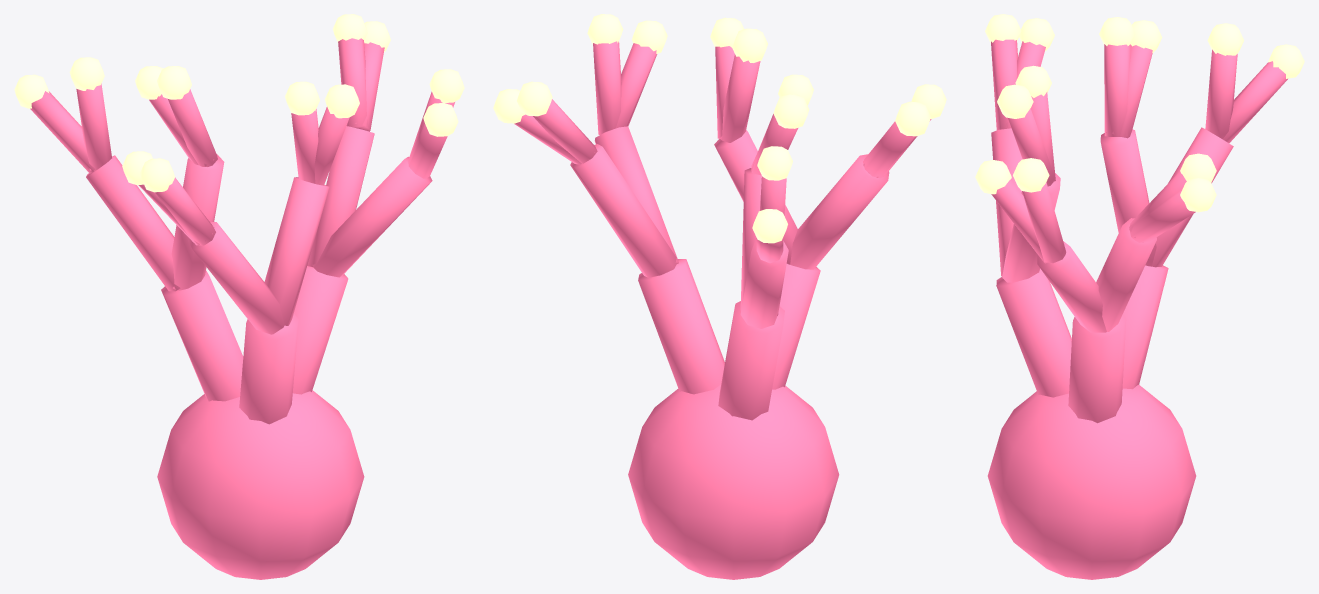
Rendered from coral_branch.fbx.
3 views of the same model, side by side, from view 1: azimuth 30°, elevation 25°; view 2: azimuth 150°, elevation 25°; view 3: azimuth 270°, elevation 25° (orthographic).
Parts seen in each view (by area): view 1: coral_branch; view 2: coral_branch; view 3: coral_branch.
Part boxes in pixels (<box>): coral_branch: <box>14,14,464,579</box>; coral_branch: <box>493,14,946,579</box>; coral_branch: <box>975,14,1304,579</box>.
Bounding box in the file's own units: 1.35 × 1.91 × 1.11.
